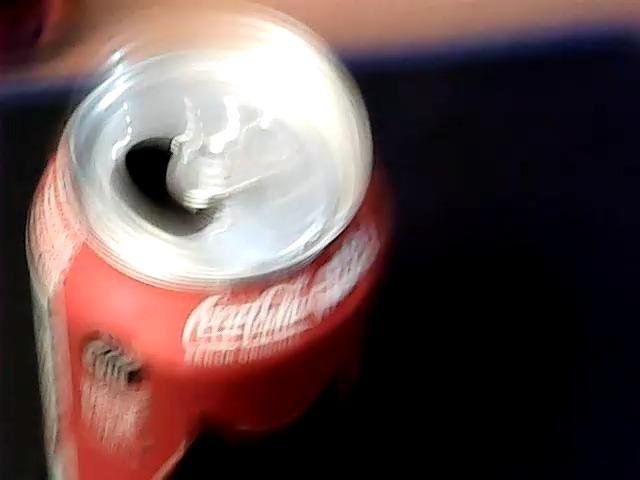coke: (28, 5, 386, 480)
